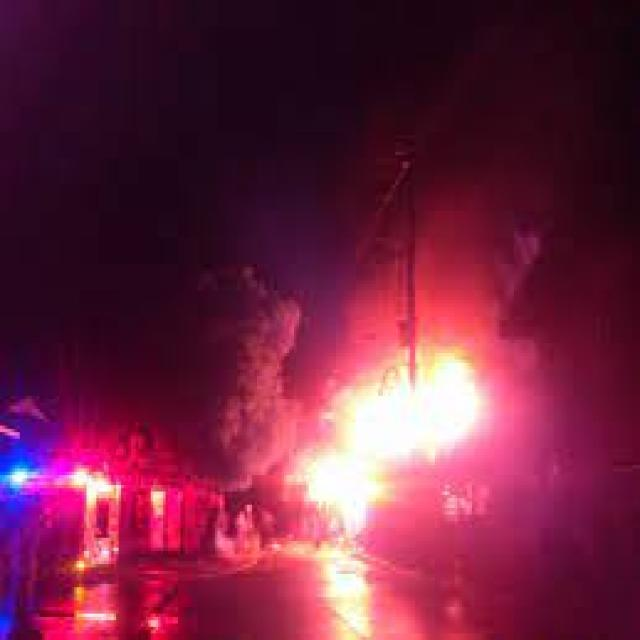Fire: (310, 357, 474, 537)
Smoke: (165, 256, 308, 536)
